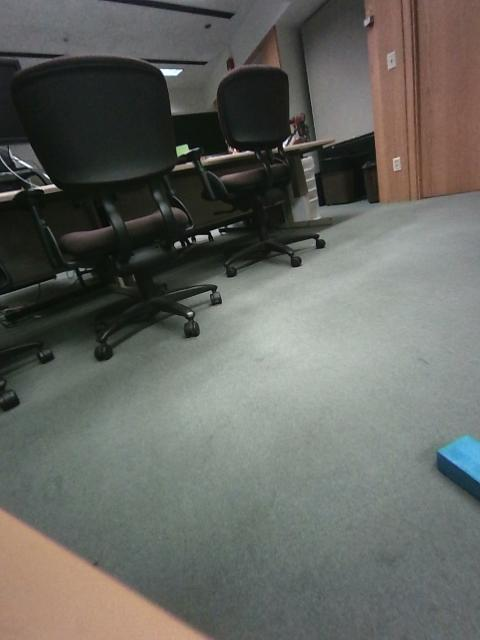block: (253, 277, 291, 308)
